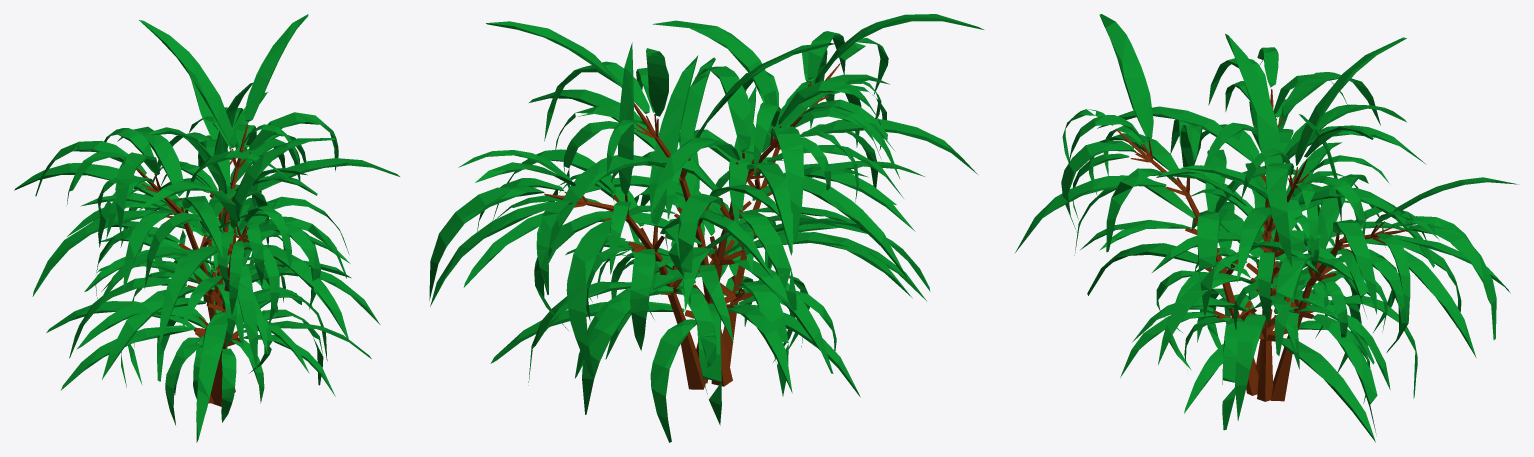
The model's file is ShrubDraca06.fbx.
The picture shows the model from 3 angles, left to right: view 1: azimuth 30°, elevation 25°; view 2: azimuth 150°, elevation 25°; view 3: azimuth 270°, elevation 25°; orthographic projection. The views are drawn at different scales.
Visible parts, largest first — view 1: ShrubDraca06_LOD0; view 2: ShrubDraca06_LOD0; view 3: ShrubDraca06_LOD0.
Boxes of the visible parts, left/top/right/bottom form: ShrubDraca06_LOD0: left=14, top=14, right=399, bottom=442; ShrubDraca06_LOD0: left=429, top=14, right=983, bottom=442; ShrubDraca06_LOD0: left=1015, top=14, right=1518, bottom=442.
Size of what is drawn, in the model's own units: 125 by 120 by 150.
